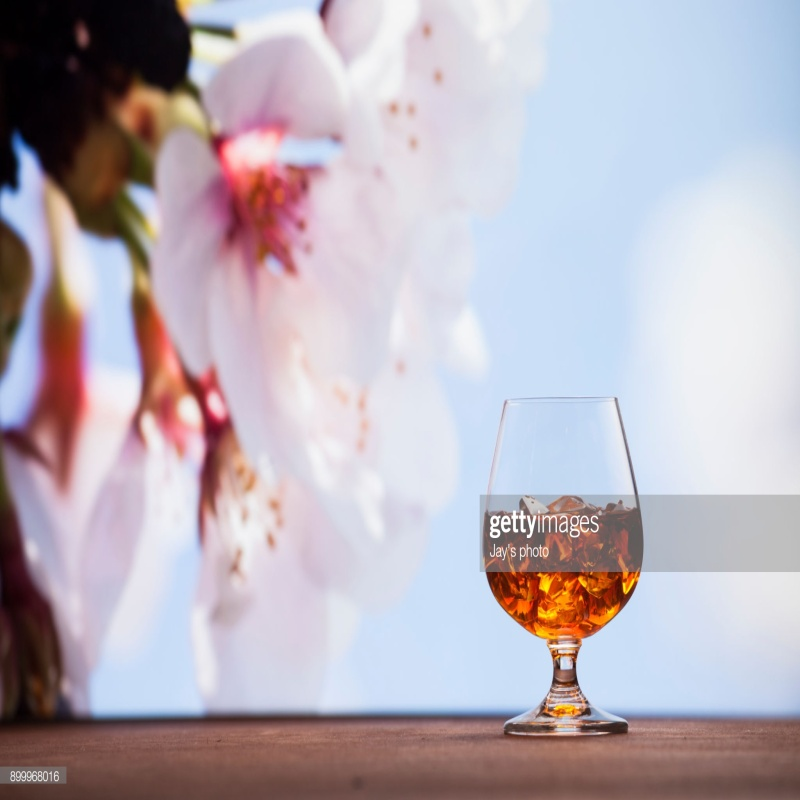whiskey: (480, 388, 639, 637)
